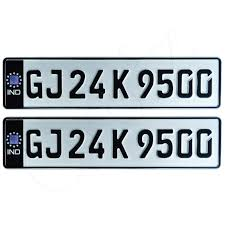inlp: (1, 55, 225, 111), (1, 115, 224, 171)
